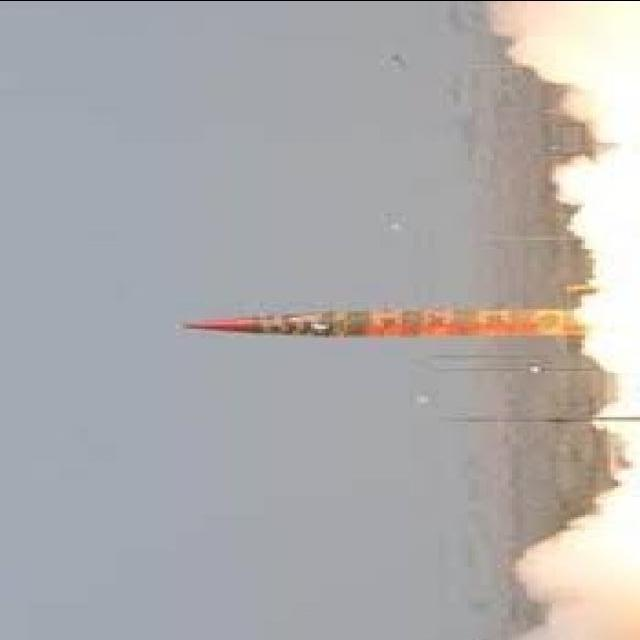missile: (182, 304, 592, 343)
